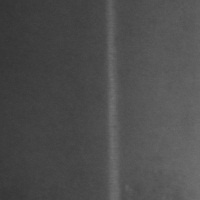scratches: (104, 14, 121, 189)
